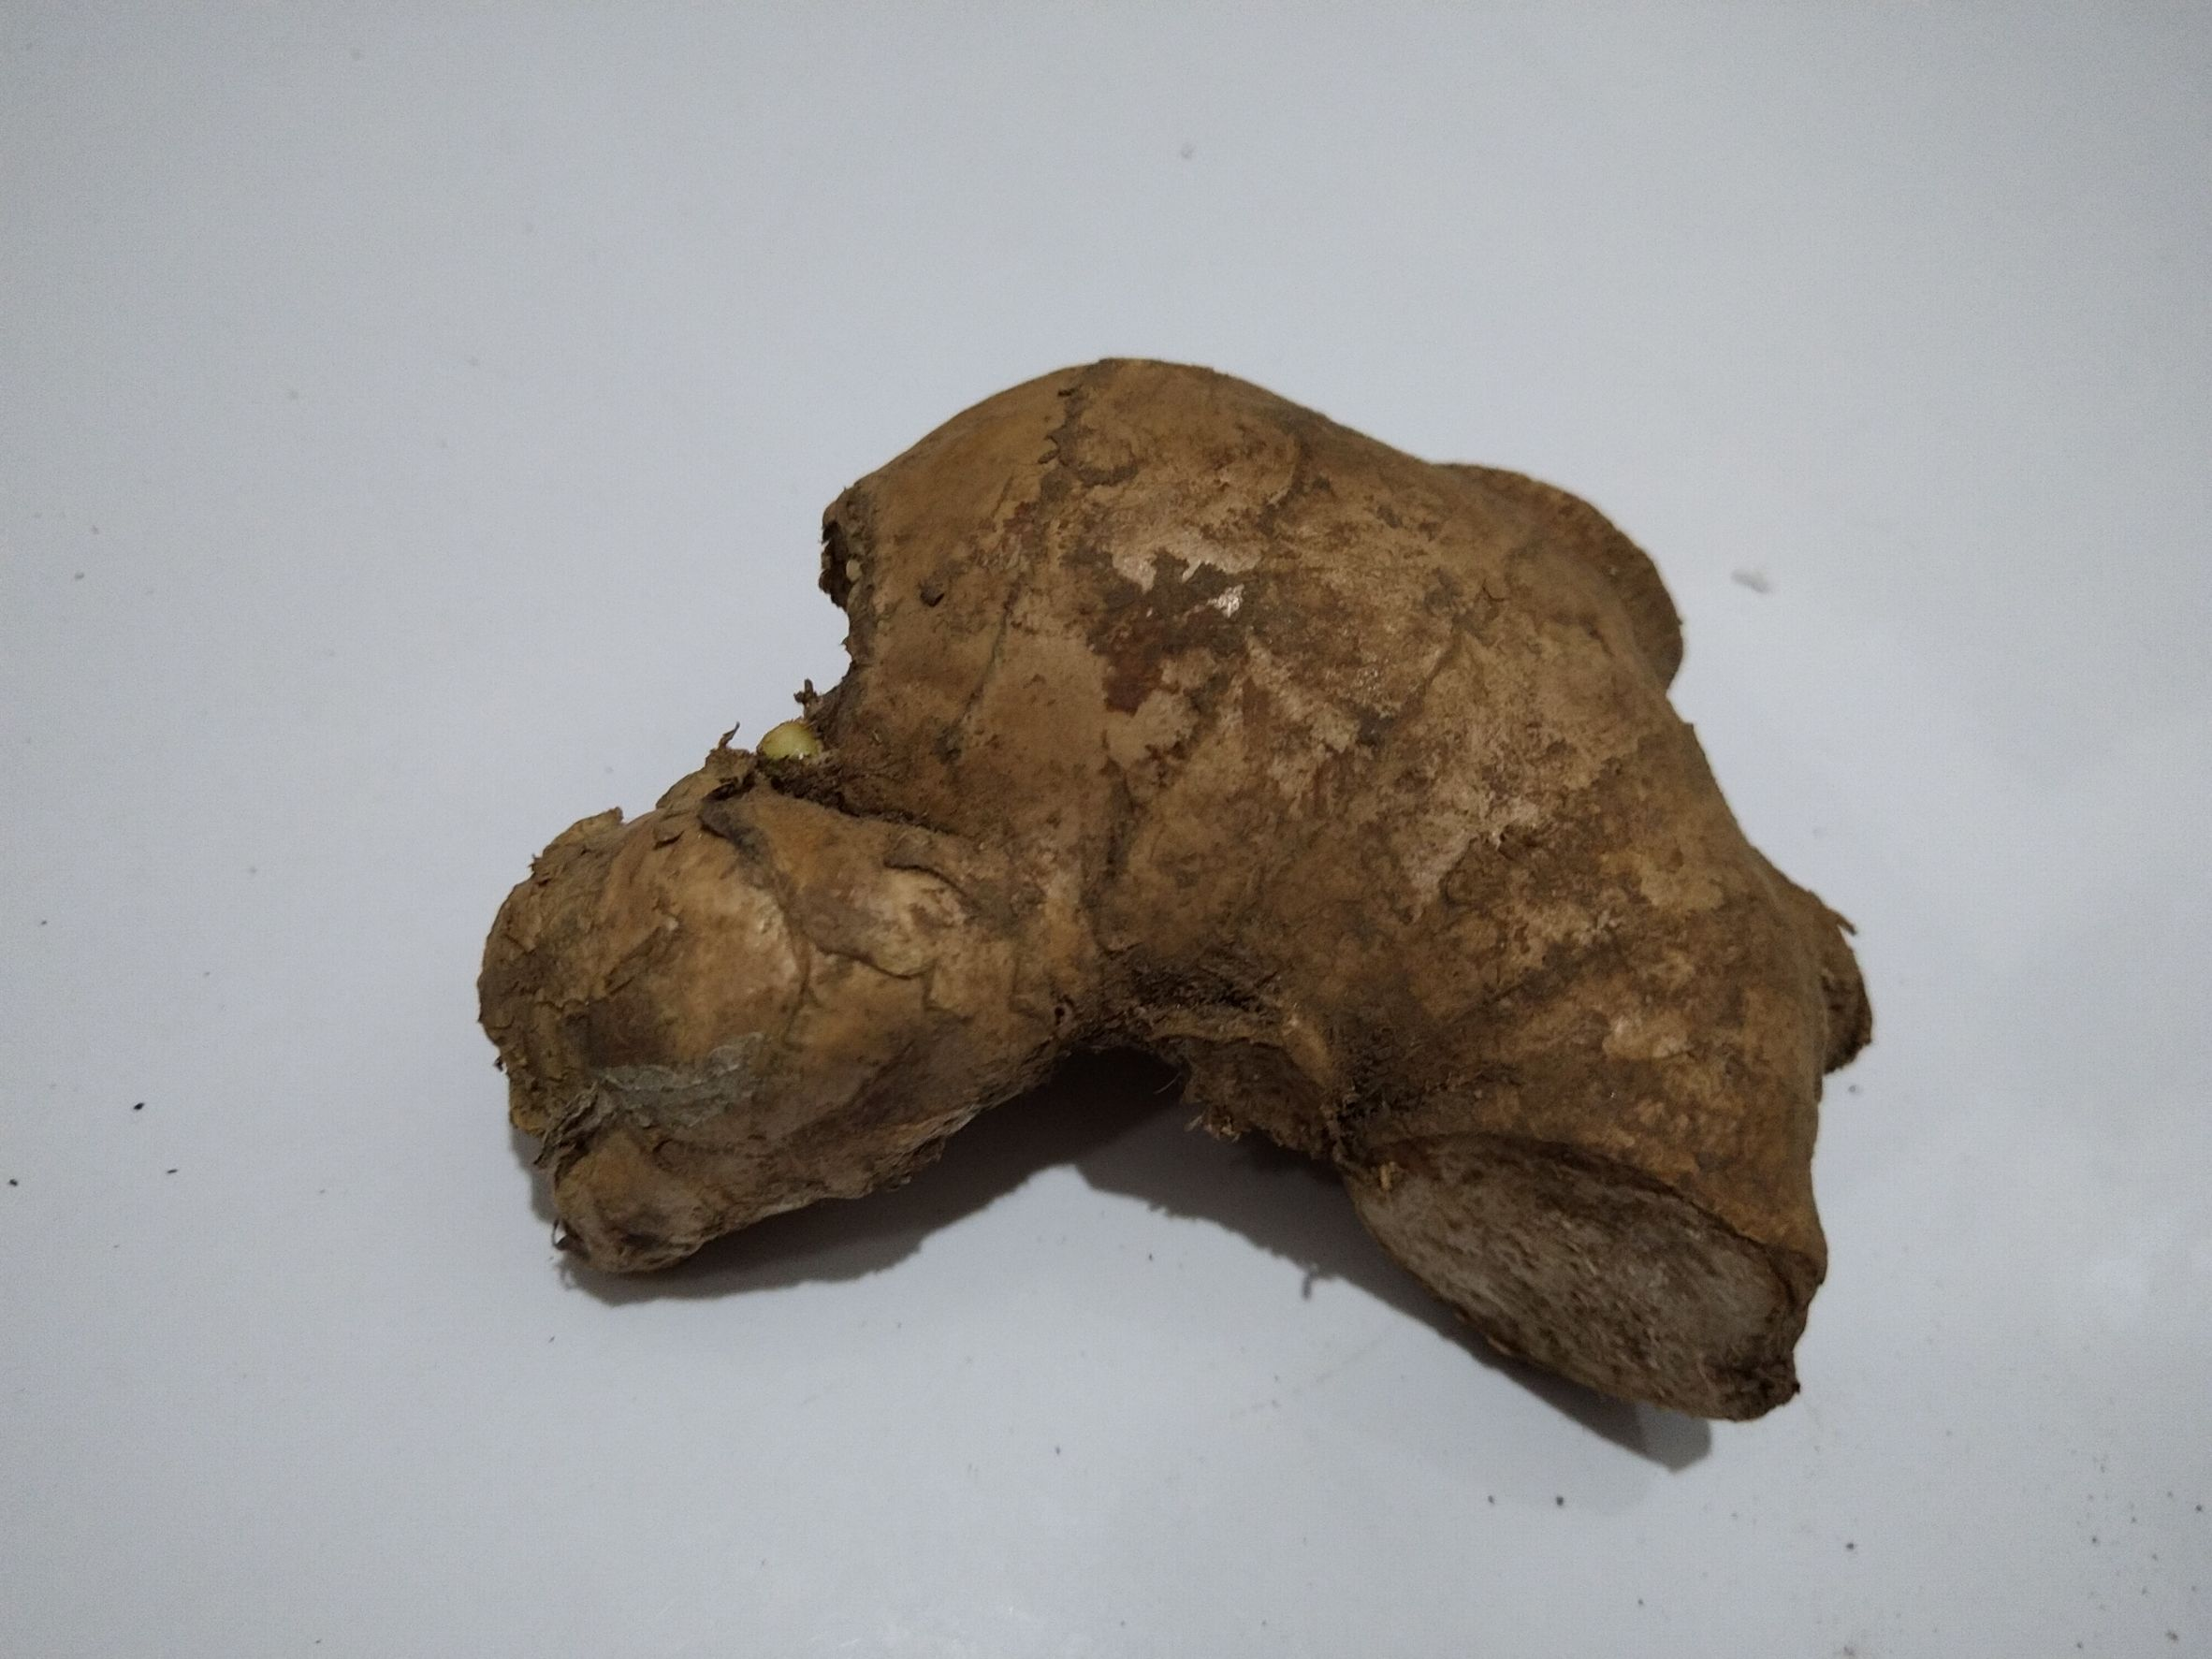Jahe: (495, 369, 1881, 1443)
